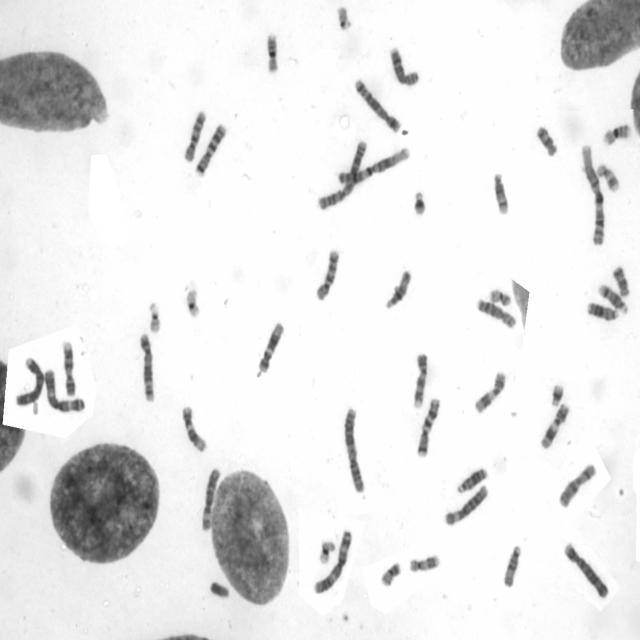A1: (335, 143, 410, 186), (578, 140, 606, 247)
A2: (315, 137, 369, 212), (340, 403, 366, 495)
A3: (311, 526, 354, 595), (42, 366, 87, 413)
B4: (562, 538, 610, 599), (13, 354, 44, 408)
B5: (351, 74, 402, 134), (136, 329, 156, 404)
C10: (313, 246, 342, 304), (182, 108, 208, 164)
C11: (470, 366, 508, 416), (538, 400, 570, 451)
C12: (256, 319, 286, 376), (180, 401, 208, 455)
C6: (442, 482, 489, 527), (198, 462, 222, 531)
C7: (192, 120, 228, 176), (414, 395, 442, 458)
C8: (473, 294, 518, 330), (388, 43, 420, 88)
C9: (410, 348, 430, 411), (60, 337, 77, 397)
D13: (454, 463, 489, 495), (584, 300, 620, 322)
D14: (596, 280, 629, 314), (490, 168, 510, 217)
D15: (382, 266, 412, 311), (500, 541, 522, 587)
E16: (262, 30, 282, 76), (600, 120, 632, 147)
E17: (594, 161, 620, 193), (406, 550, 441, 572)
E18: (534, 120, 558, 158), (610, 261, 631, 299)
F19: (184, 285, 202, 319), (317, 536, 336, 566)
F20: (379, 559, 403, 588), (486, 285, 514, 307)
G21: (410, 187, 428, 218), (549, 380, 565, 408)
G22: (334, 2, 354, 34), (146, 298, 162, 335)
X: (556, 460, 598, 509)
Y: (209, 579, 234, 600)
